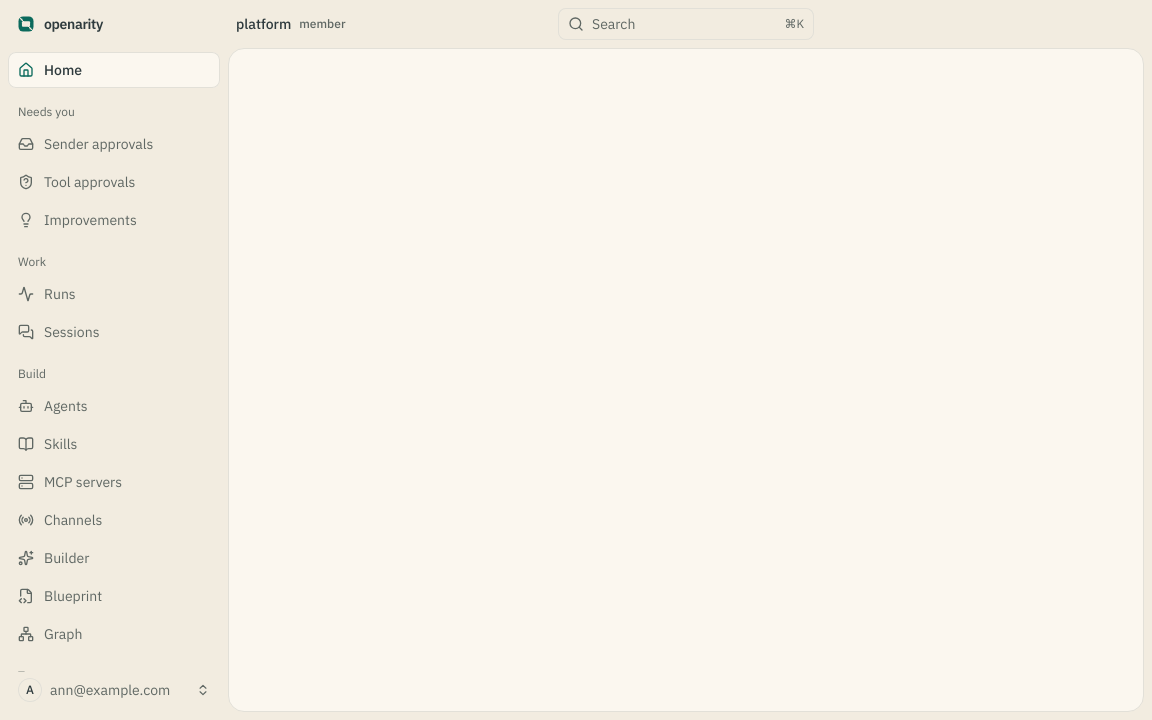
Test case: the navigation on a wide screen › names the team and the reader's role in it, and keeps the account in a menu
Expected: the text "platform" is shown, [236, 14, 291, 34]
Expected: the text "member" is shown, [299, 16, 346, 32]
Click the button "A ann@example.com" at (114, 690), box [8, 672, 220, 708]
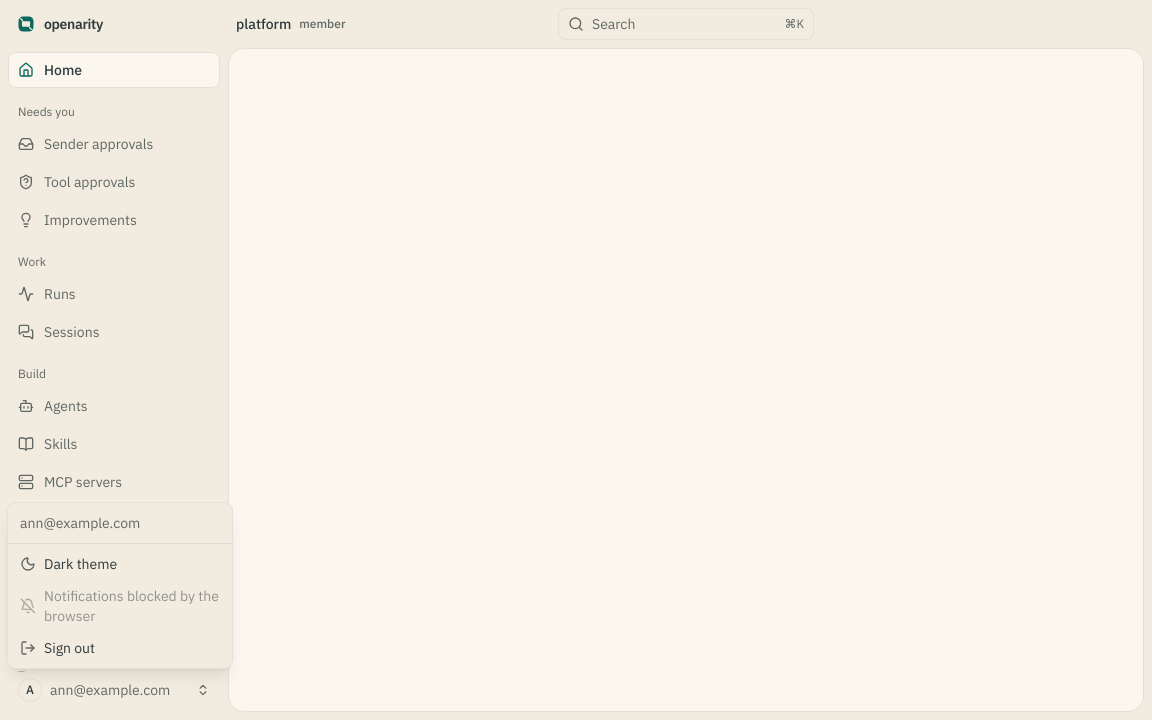
Expected: the menu item "Sign out" is shown, [20, 639, 95, 657]
Expected: the menu item "Dark theme" is shown, [20, 555, 117, 573]
